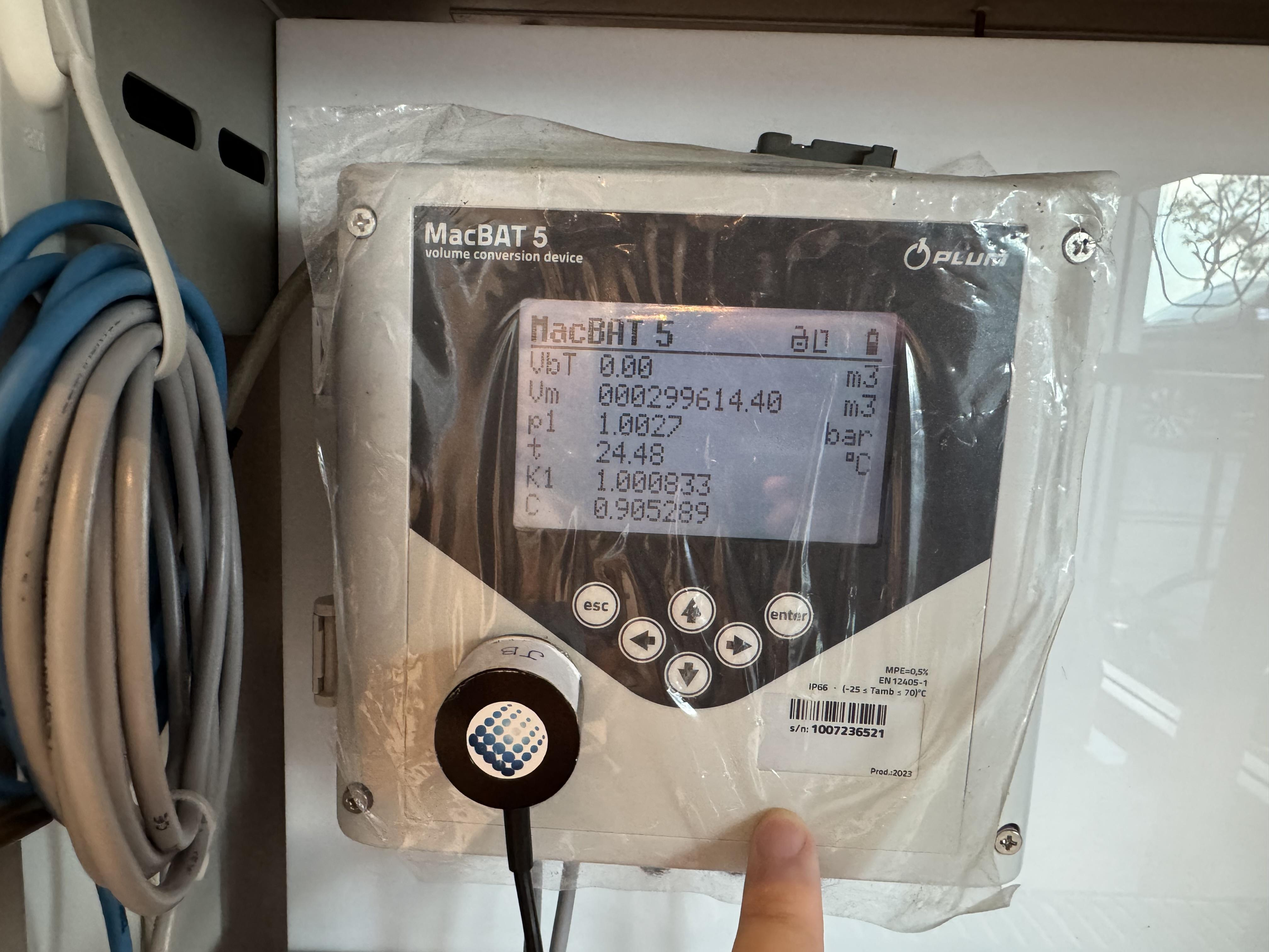digital_screen: (510, 297, 899, 544)
